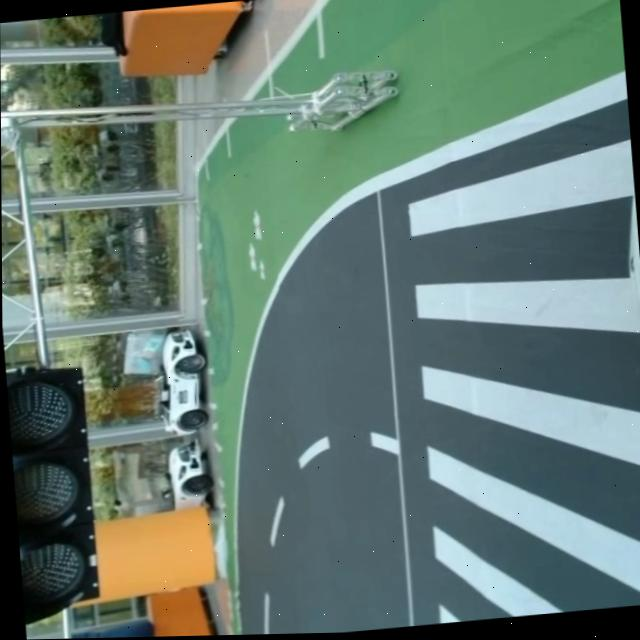traffic-light: (6, 359, 104, 620)
